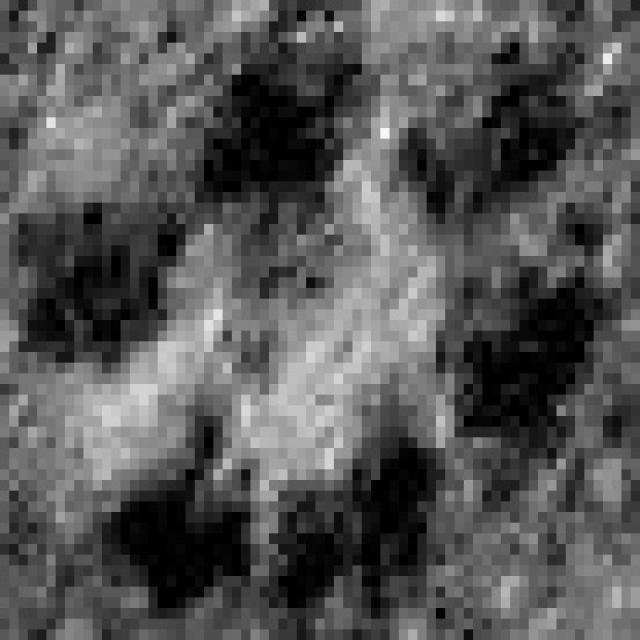inner: (194, 192, 435, 456)
lobe: (261, 371, 464, 633), (431, 249, 628, 497), (181, 0, 385, 236), (86, 394, 270, 625), (395, 43, 594, 235), (0, 195, 197, 384)
outer: (0, 0, 640, 640)
